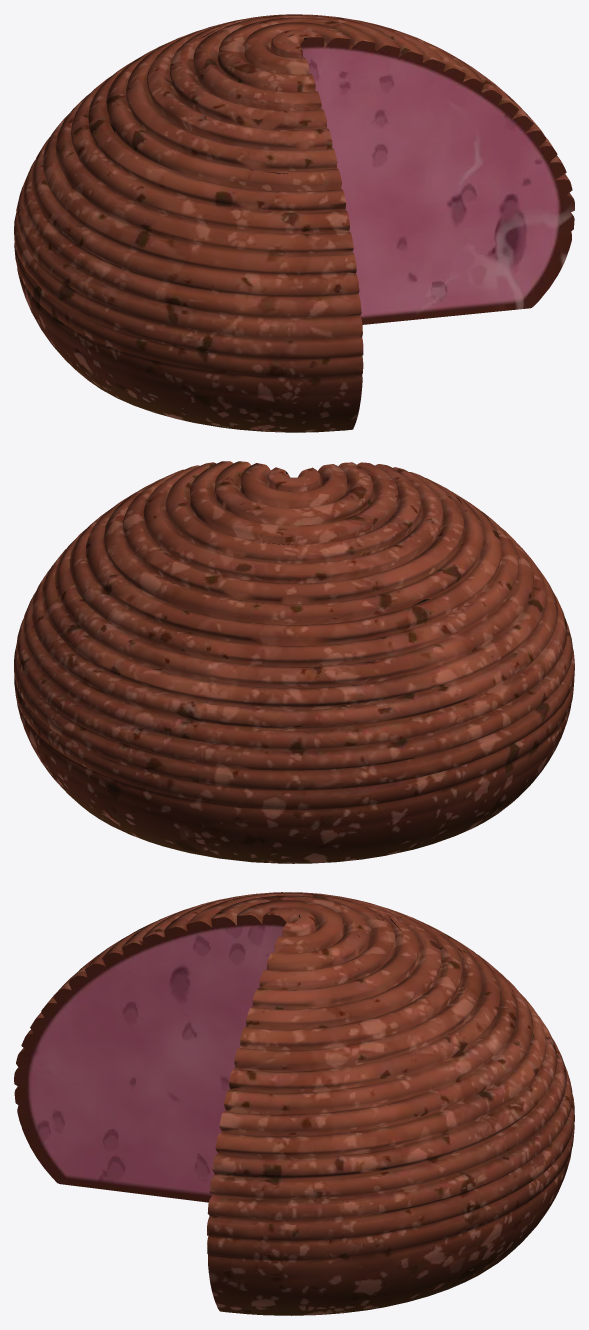
File: wholewheat--beet-puree.glb
The picture shows the model from 3 angles, top to bottom: view 1: azimuth 30°, elevation 25°; view 2: azimuth 150°, elevation 25°; view 3: azimuth 270°, elevation 25°; orthographic projection. The views are drawn at different scales.
Parts seen in each view (by area): view 1: wholewheat_beet-puree; view 2: wholewheat_beet-puree; view 3: wholewheat_beet-puree.
Boxes of the visible parts, x1=… form: wholewheat_beet-puree: x1=14, y1=14, x2=574, y2=432; wholewheat_beet-puree: x1=14, y1=461, x2=574, y2=863; wholewheat_beet-puree: x1=14, y1=892, x2=574, y2=1315.
Size of the model in its own units: 0.9999 by 0.5691 by 0.9775.
Materials: 1 (1 with a texture image).
